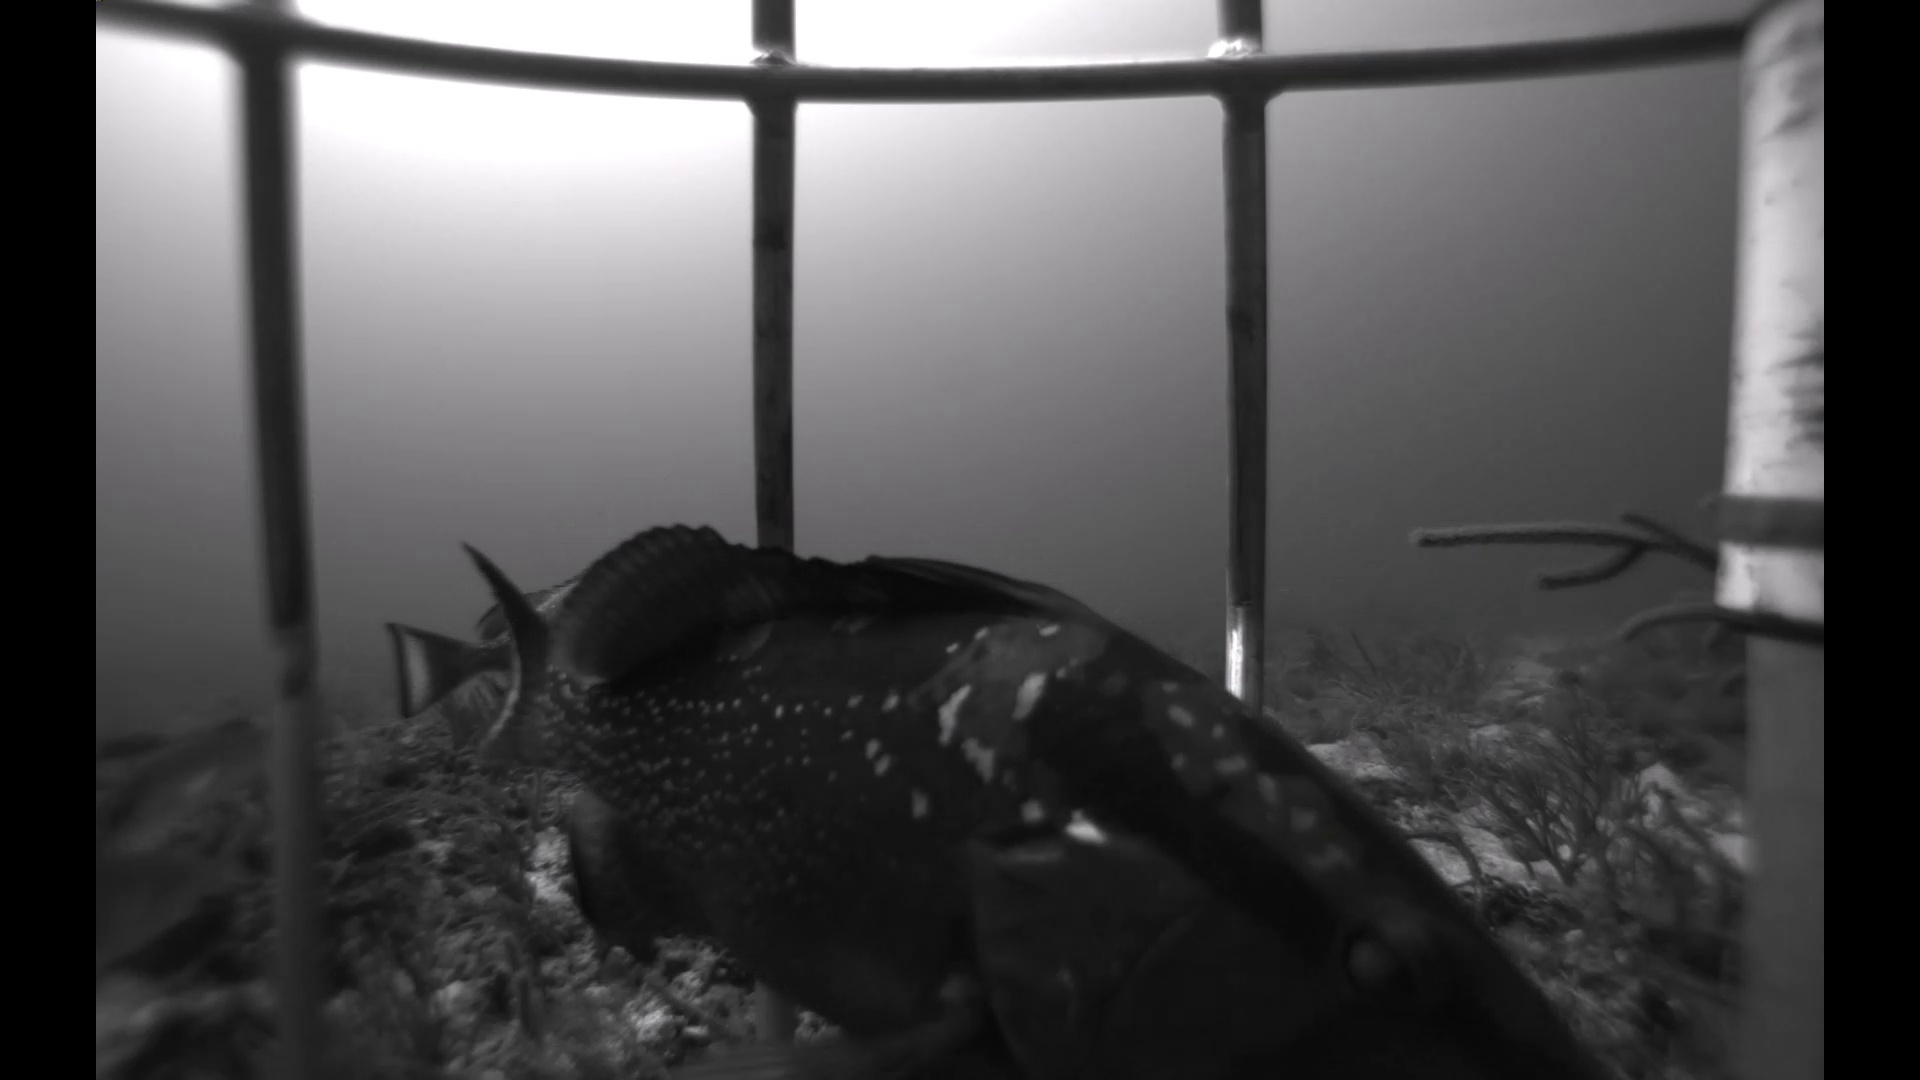CALAMUSNODOSUS-170210608: (94, 806, 273, 977), (1679, 727, 1753, 822)
EPINEPHELUSMORIO-170021211: (433, 489, 1586, 1080), (378, 579, 567, 741)
LUTJANUSGRISEUS-170151109: (103, 699, 276, 866)
